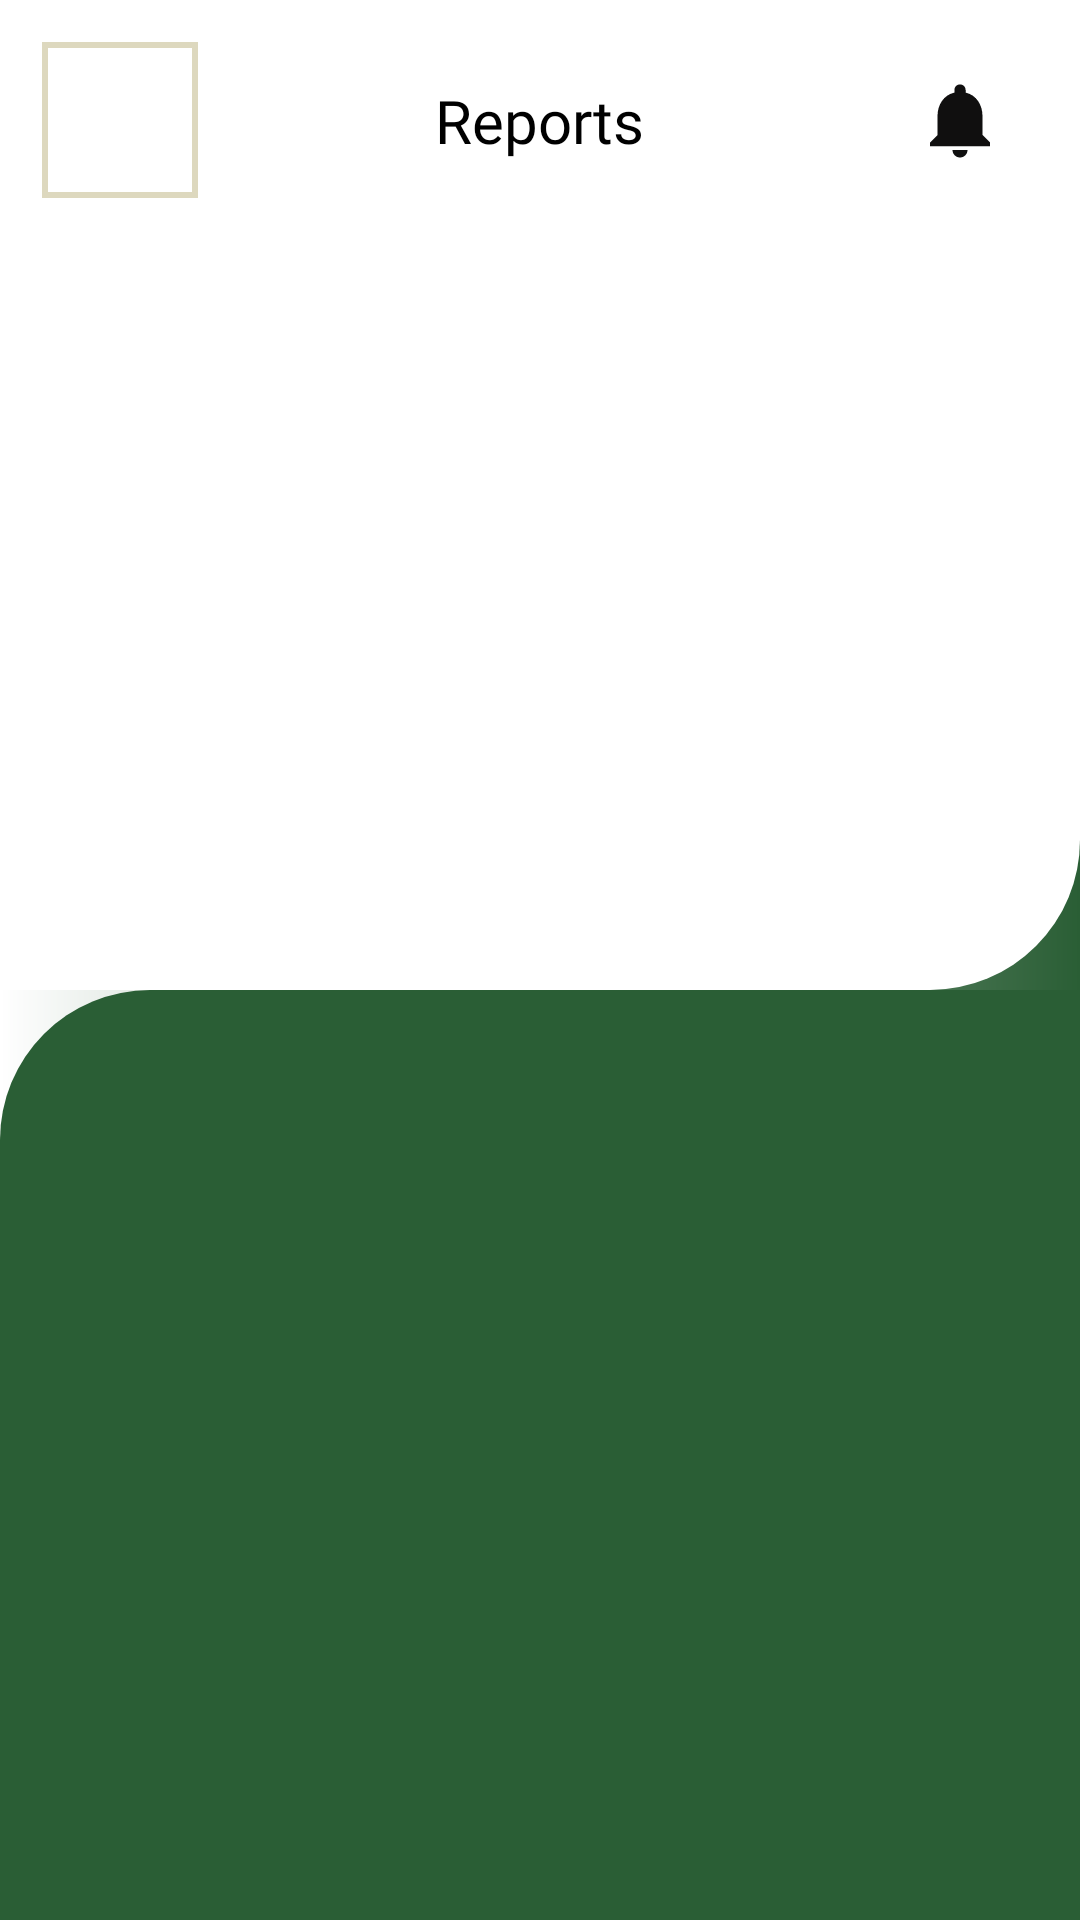

Icons on this 1080*1920 Android screen, each with the point to tap as (x,y):
notifications: (960,121)
